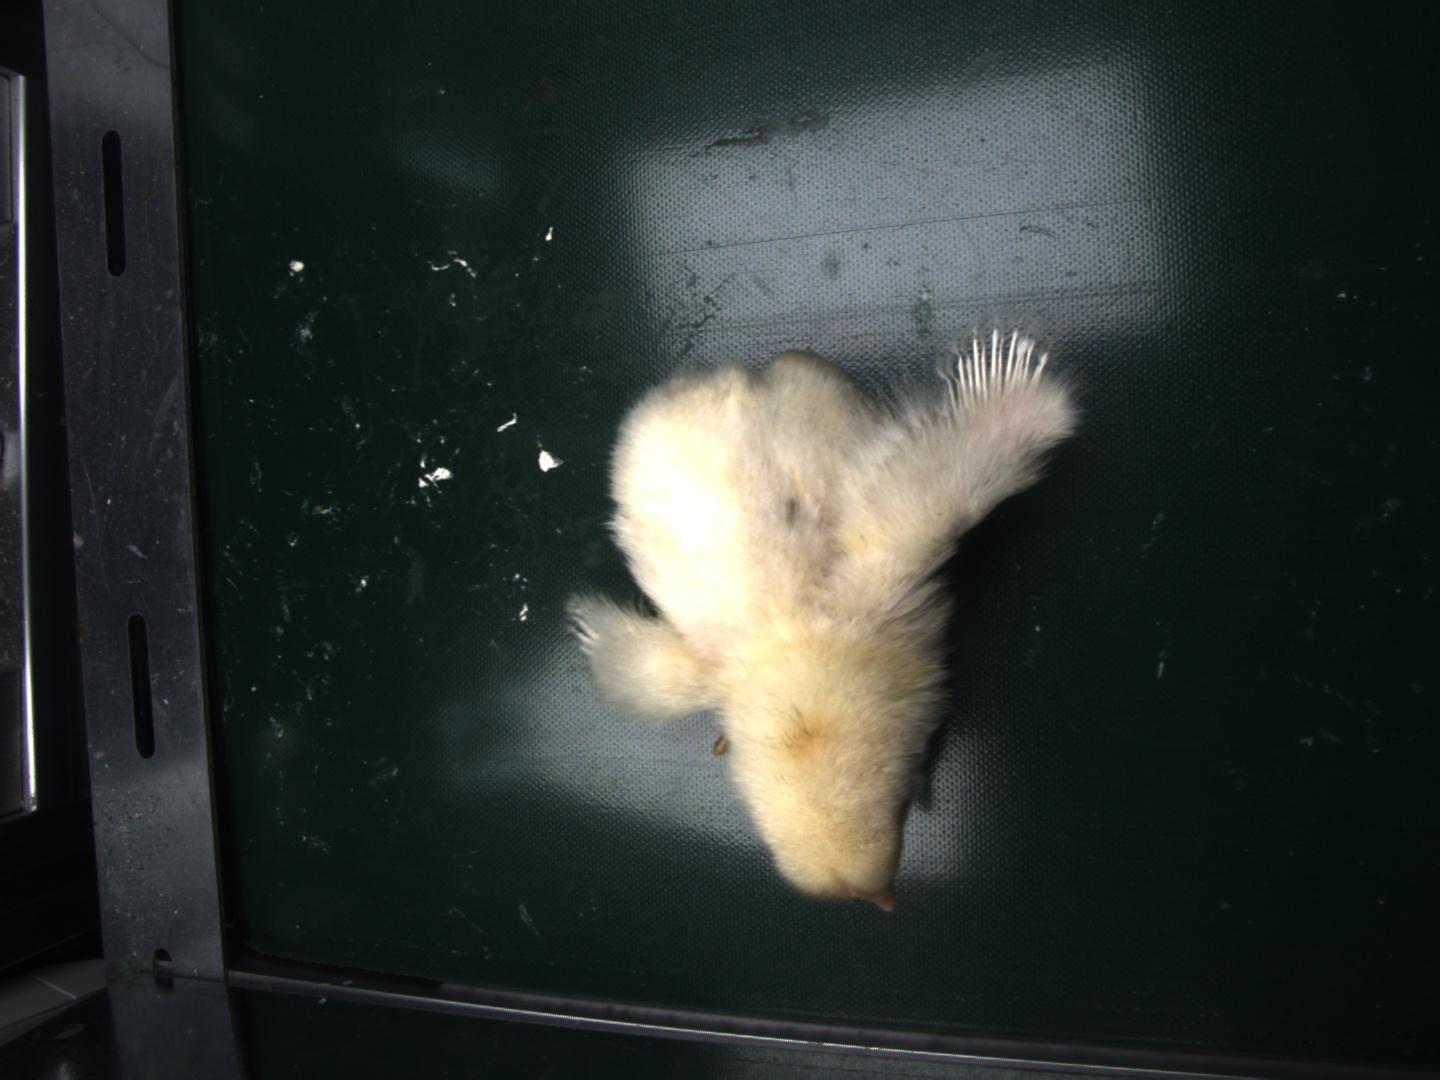male: (949, 329, 1047, 405)
